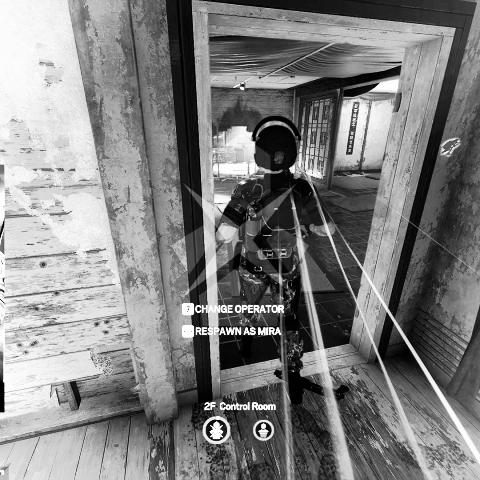Character: (213, 114, 339, 407)
Head: (251, 115, 301, 178)
